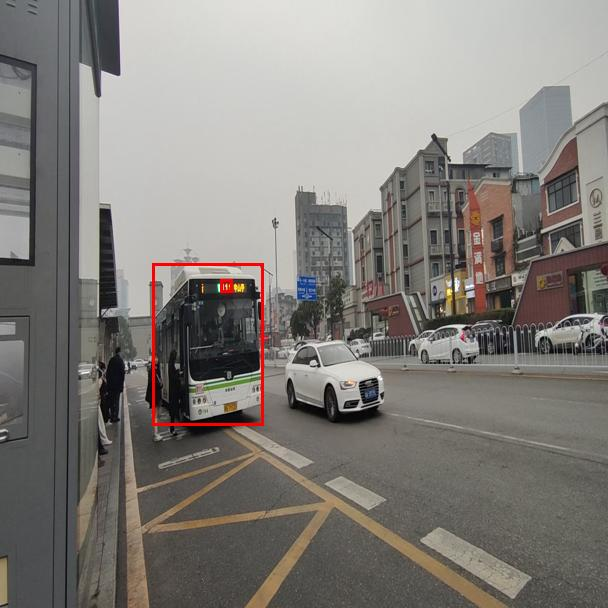bus: (152, 263, 263, 425)
screen: (220, 279, 232, 292)
